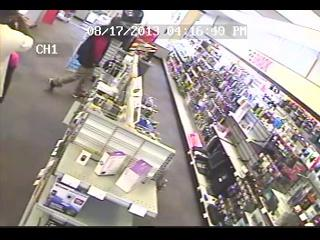Normal: (45, 28, 113, 99), (1, 20, 34, 104)
